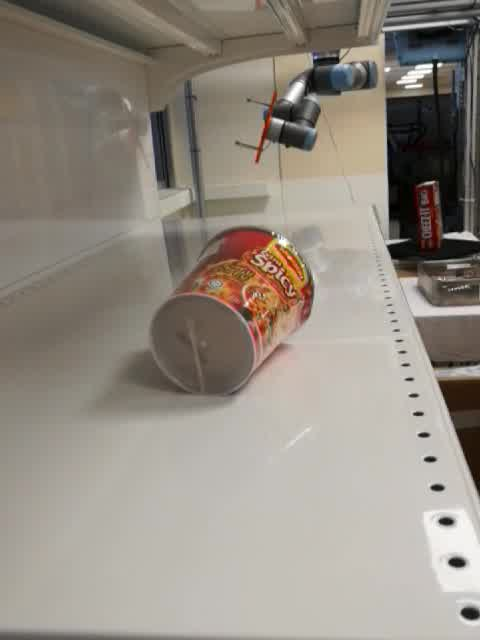maggi: (148, 223, 318, 397)
